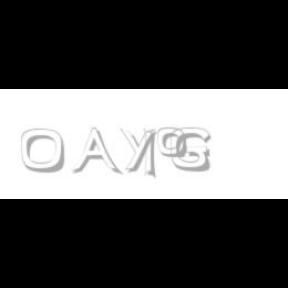A: (71, 128, 119, 176)
G: (171, 128, 211, 172)
O: (20, 128, 66, 174)
l: (144, 128, 160, 180)
o: (158, 128, 186, 158)
y: (120, 128, 160, 172)
